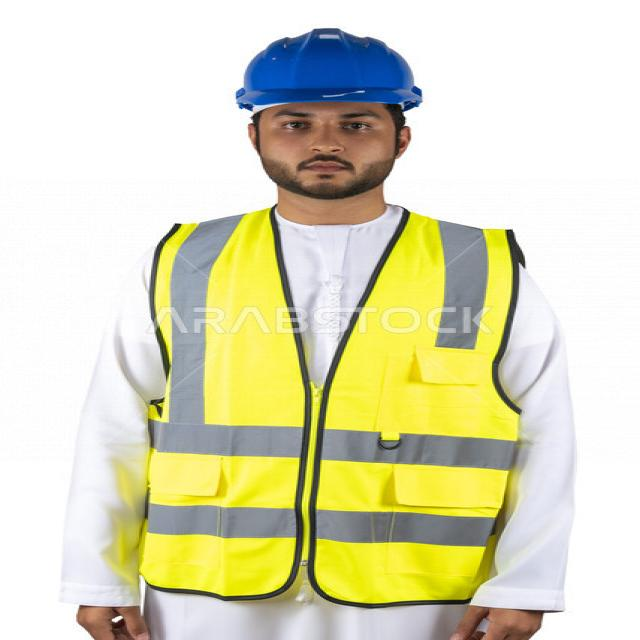helmet: (226, 22, 428, 116)
no-goggles: (234, 102, 411, 144)
vest: (133, 206, 529, 604)
